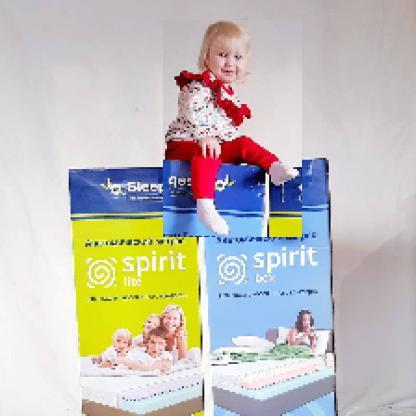child: (164, 21, 304, 239)
